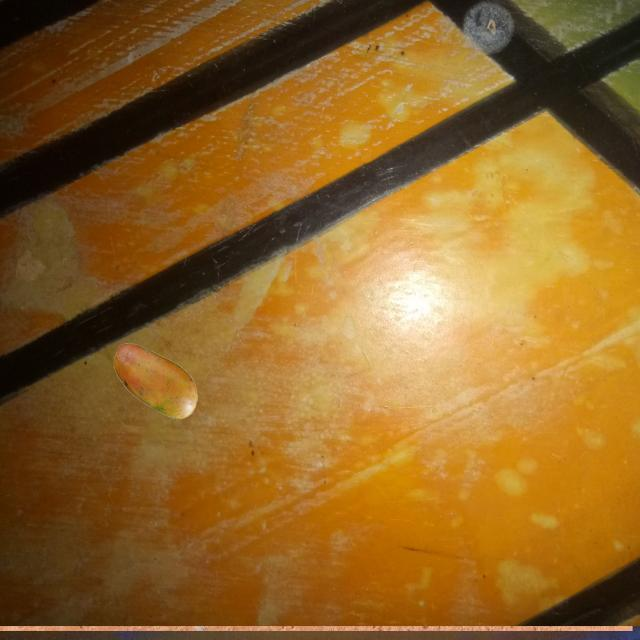Pepaya rippen: (109, 328, 201, 433)
